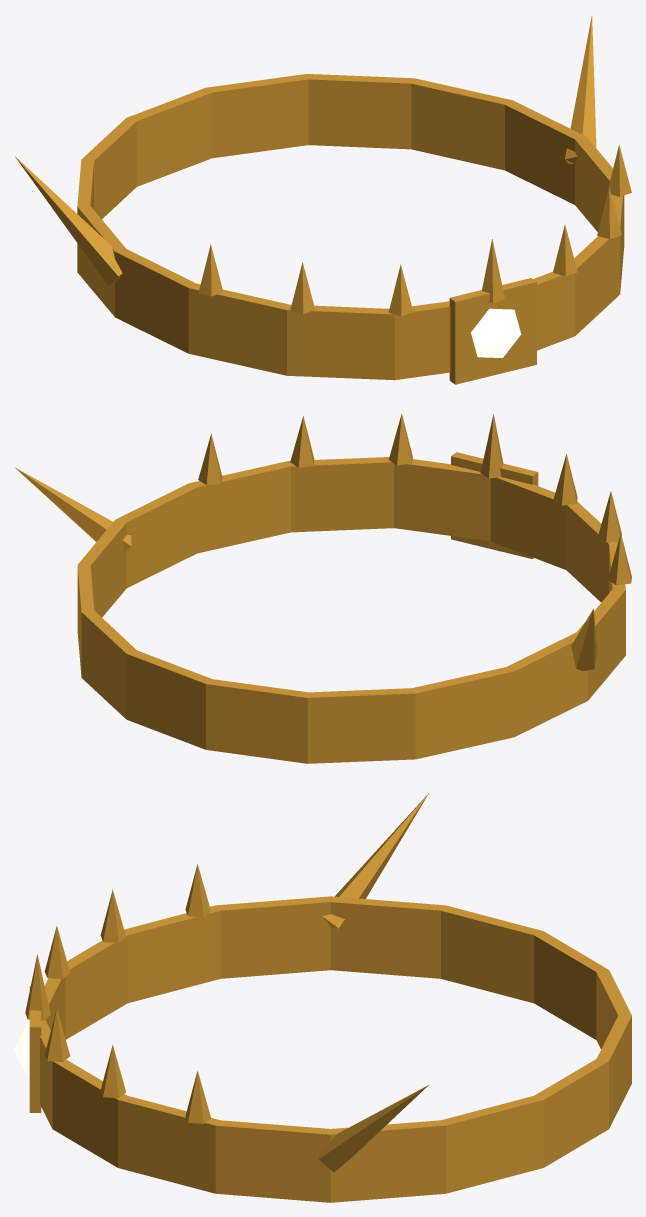
The model's file is armor_guard_head_legendary_human.glb.
3 renders of one model, top to bottom at view 1: azimuth 30°, elevation 25°; view 2: azimuth 150°, elevation 25°; view 3: azimuth 270°, elevation 25°, orthographic. The views are drawn at different scales.
Parts seen in each view (by area): view 1: armor_guard_head_legendary_human__head; view 2: armor_guard_head_legendary_human__head; view 3: armor_guard_head_legendary_human__head.
Boxes of the visible parts, box(x1,y1,x2,y2) form: armor_guard_head_legendary_human__head: box(15, 16, 631, 384); armor_guard_head_legendary_human__head: box(15, 413, 631, 763); armor_guard_head_legendary_human__head: box(14, 793, 631, 1202).
Bounding box in the file's own units: 70.86 × 17.43 × 63.3.
